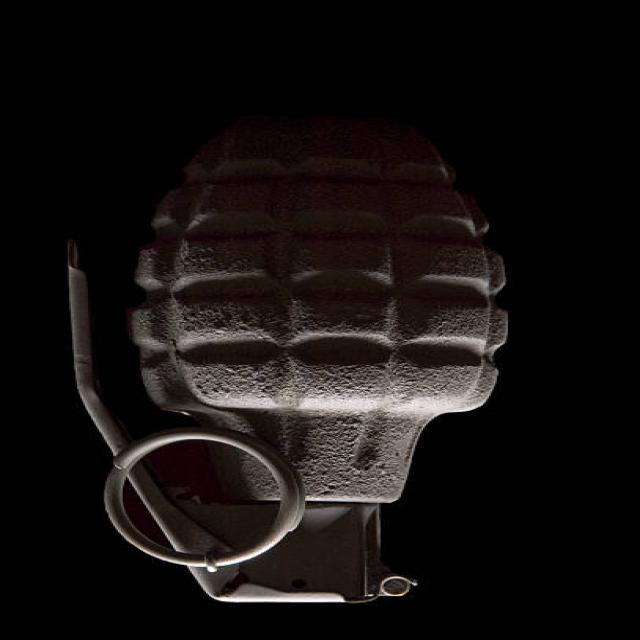grenade: (41, 116, 516, 613)
